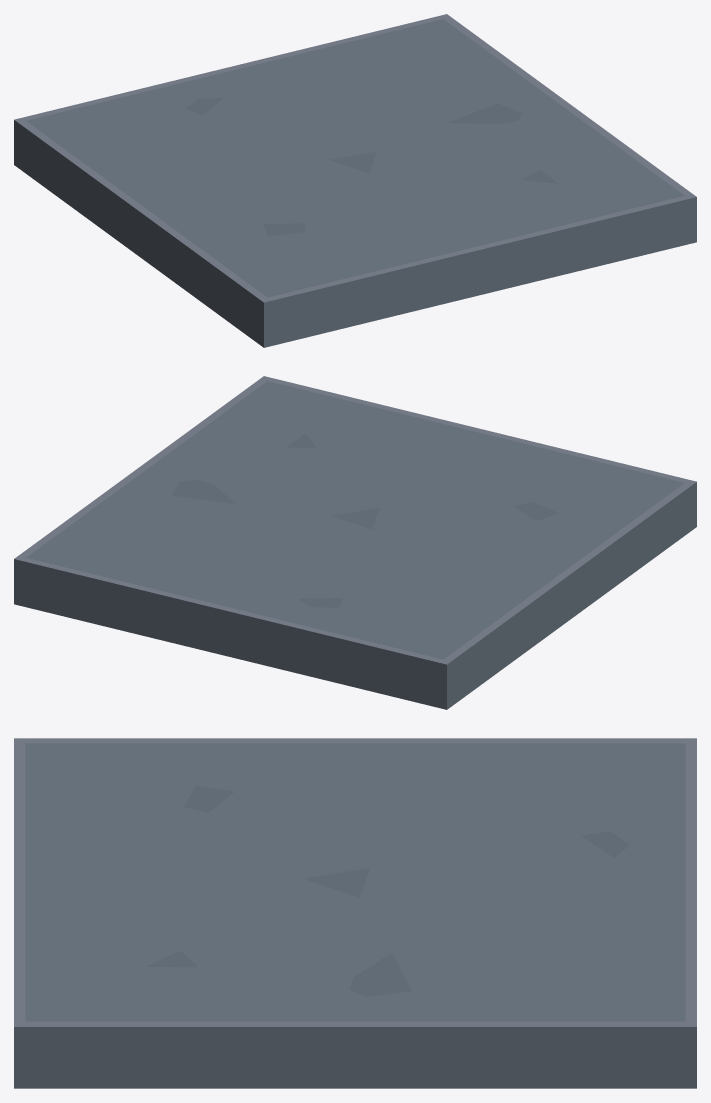
The model's file is ConcrateSlabs_D_2_2.obj.
3 renders of one model, top to bottom at view 1: azimuth 30°, elevation 25°; view 2: azimuth 150°, elevation 25°; view 3: azimuth 270°, elevation 25°, orthographic. The views are drawn at different scales.
Visible parts, largest first — view 1: ConcrateSlabs_D_2_2; view 2: ConcrateSlabs_D_2_2; view 3: ConcrateSlabs_D_2_2.
Boxes of the visible parts, bbox=[...] form: ConcrateSlabs_D_2_2: bbox=[14, 14, 696, 347]; ConcrateSlabs_D_2_2: bbox=[14, 376, 696, 709]; ConcrateSlabs_D_2_2: bbox=[14, 738, 696, 1088].
Size of the model in its own units: 4 by 0.4 by 4.
